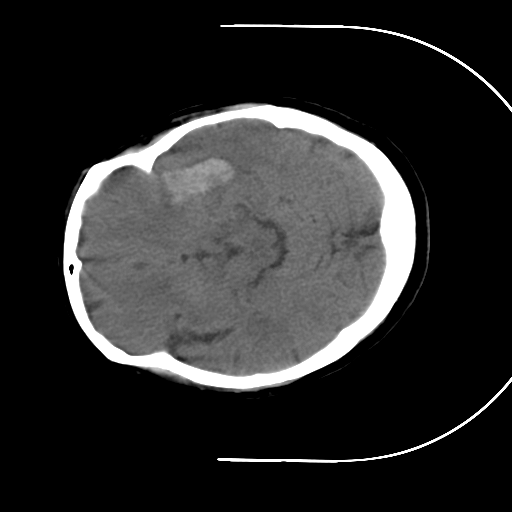a: (140, 145, 249, 219)
